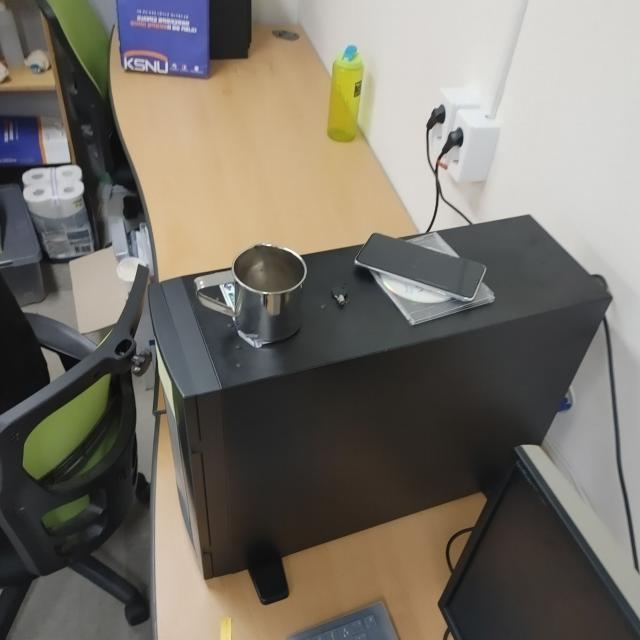cup: (189, 242, 306, 344)
phone: (356, 231, 486, 301)
